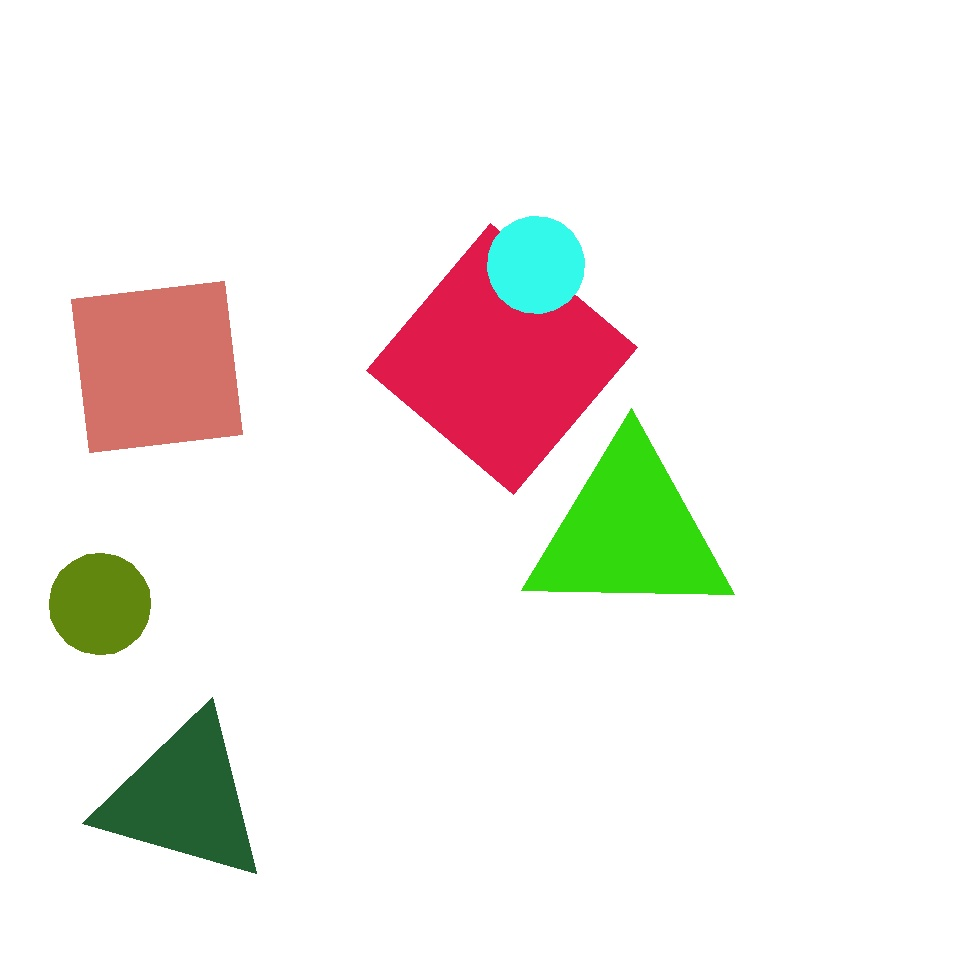circle: (95, 66, 408, 350), (522, 438, 736, 624), (97, 710, 271, 886)
square: (367, 224, 638, 494), (614, 406, 848, 642), (72, 282, 243, 452)
triangle: (308, 404, 668, 766), (444, 434, 778, 768), (50, 554, 150, 654), (488, 216, 584, 314)
